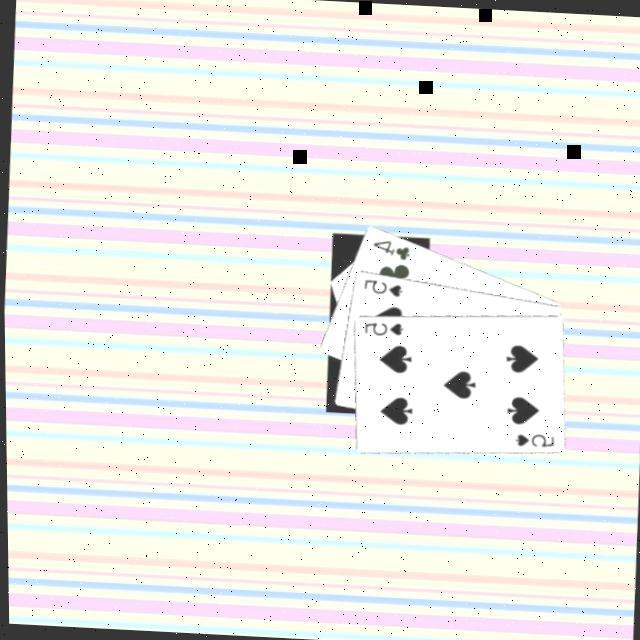4C: (370, 236, 415, 264)
5S: (361, 318, 407, 341), (512, 429, 558, 452), (361, 277, 406, 300)
